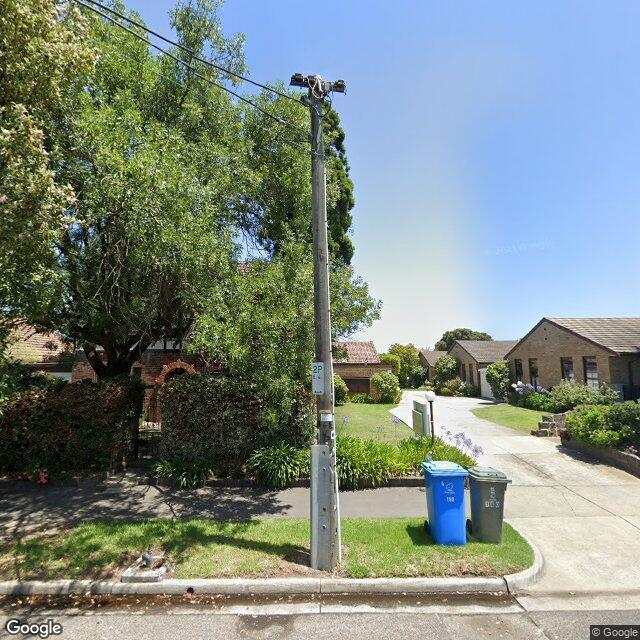timber-pole: (309, 88, 340, 572)
